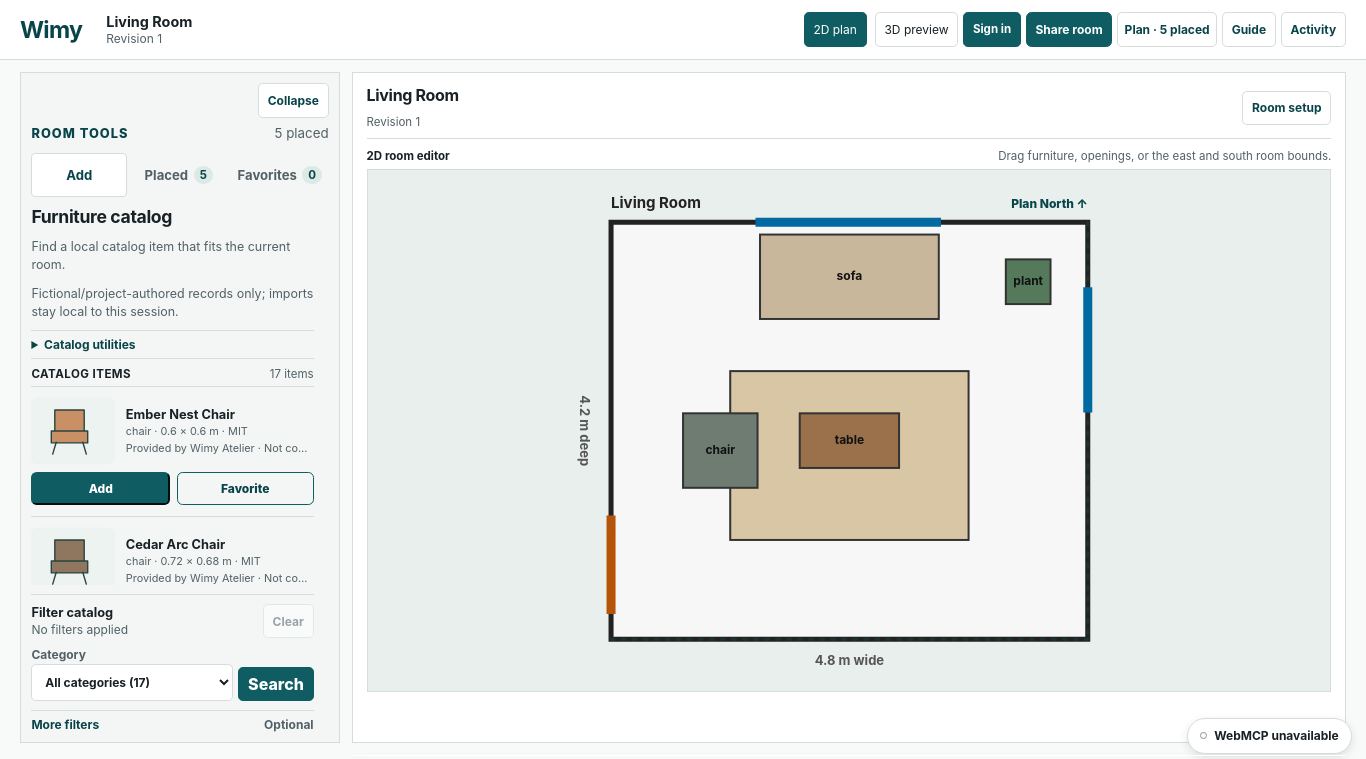
it: App › opens Help as a non-layout surface and returns focus on Escape
The width and height of the screenshot is (1366, 759).
Click the button with aria-label "Help and agent guidance".
click(1249, 30)  # box [1222,12,1276,47]
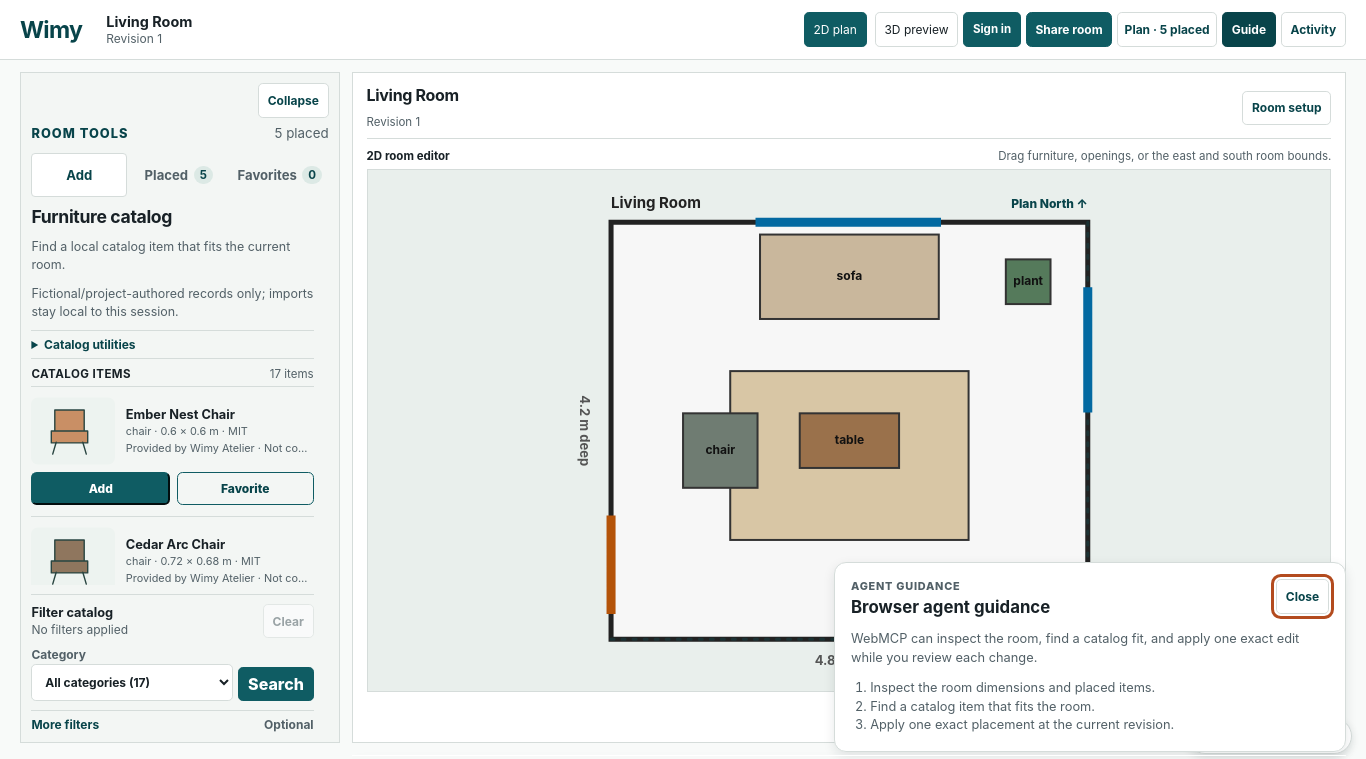
Result: the dialog "Browser agent guidance" is shown at [834,562,1346,752]
Press Escape
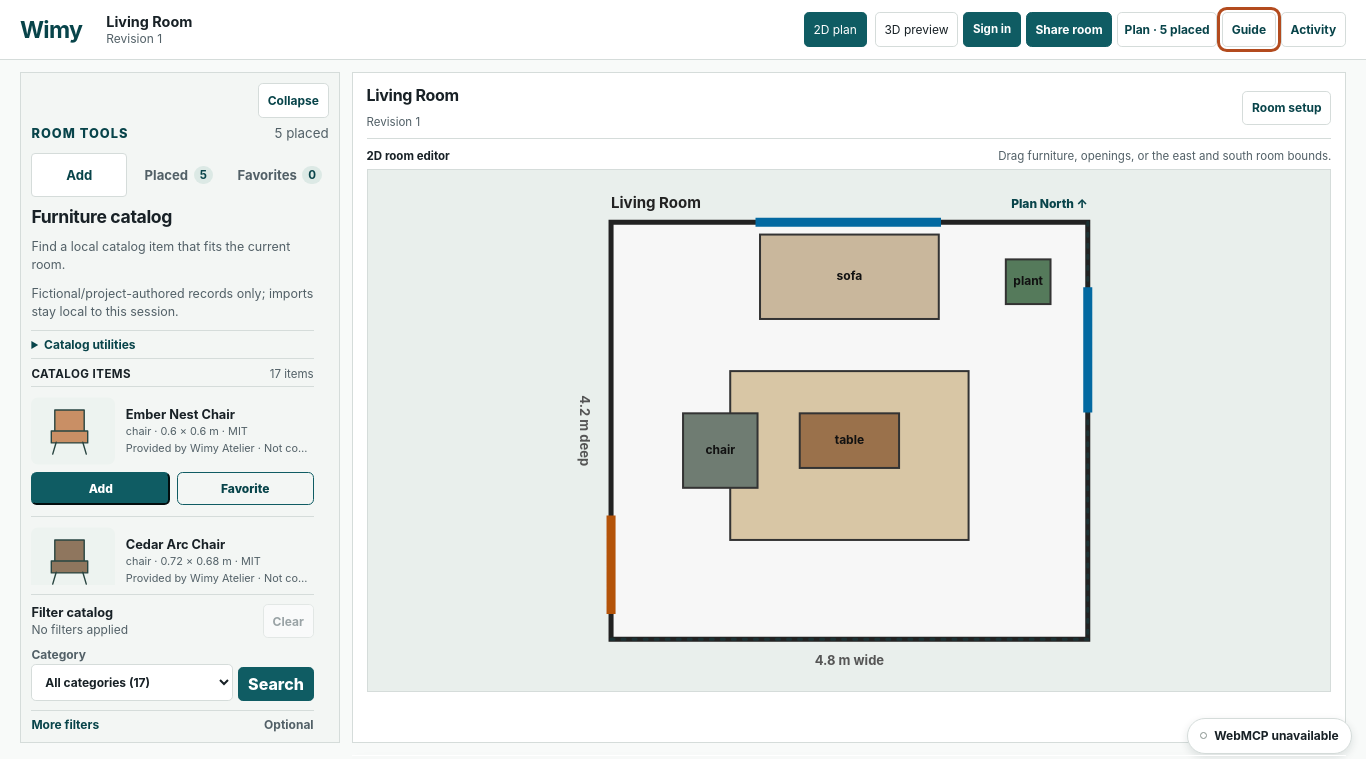
Result: the heading "Browser agent guidance" is gone
